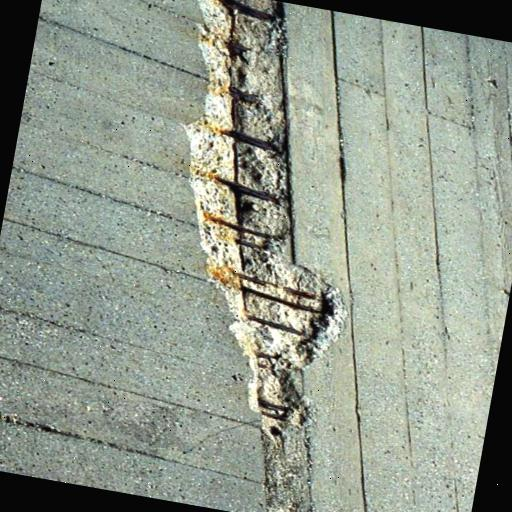spalling: (184, 0, 348, 512)
